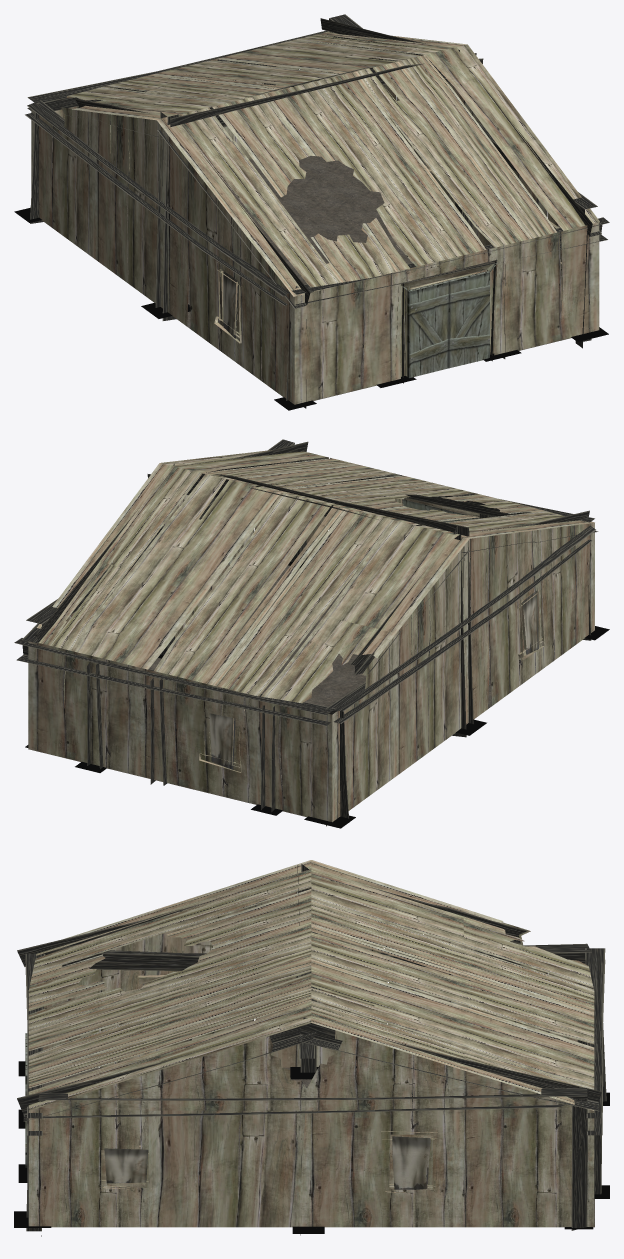
The model's file is pir_m_int_shn_npc_destroyed.fbx.
The picture shows the model from 3 angles, top to bottom: view 1: azimuth 30°, elevation 25°; view 2: azimuth 150°, elevation 25°; view 3: azimuth 270°, elevation 25°; orthographic projection. The views are drawn at different scales.
Visible parts, largest first — view 1: npc_house_roofA, npc_house_wall1, npc_house_wall4, npc_house_roofB, new_floor2, beam6, door1, door2, beam7, beam2, beam12, beam1 (+10 smaller); view 2: npc_house_roofB, npc_house_wall1, npc_house_wall3, npc_house_roofA, beam6, beam2, new_floor2, beam7, beam12, beam1, window2.002, beam15 (+9 smaller); view 3: npc_house_wall2, npc_house_roofB, npc_house_roofA, npc_house_wall1, beam5, beam6, beam8, beam2, beam20, window2, beam9, window2.003 (+4 smaller).
Boxes of the visible parts, <box> form: npc_house_roofA: <box>157,44,599,296</box>; npc_house_wall1: <box>31,107,294,404</box>; npc_house_wall4: <box>294,222,599,404</box>; npc_house_roofB: <box>67,31,466,120</box>; new_floor2: <box>126,155,570,400</box>; beam6: <box>25,100,298,305</box>; door1: <box>407,281,449,378</box>; door2: <box>448,271,489,368</box>; beam7: <box>163,53,483,139</box>; beam2: <box>27,30,329,110</box>; beam12: <box>155,112,178,320</box>; beam1: <box>291,217,609,305</box>; npc_house_roofB: <box>36,463,469,703</box>; npc_house_wall1: <box>332,523,594,821</box>; npc_house_wall3: <box>28,641,332,821</box>; npc_house_roofA: <box>160,450,594,538</box>; beam6: <box>325,519,595,723</box>; beam2: <box>14,638,335,726</box>; new_floor2: <box>28,565,562,816</box>; beam7: <box>147,473,469,558</box>; beam12: <box>452,526,473,737</box>; beam1: <box>291,458,594,524</box>; window2.002: <box>209,713,235,769</box>; beam15: <box>150,678,167,785</box>; npc_house_wall2: <box>28,1030,594,1227</box>; npc_house_roofB: <box>311,860,594,1110</box>; npc_house_roofA: <box>28,860,311,1110</box>; npc_house_wall1: <box>43,863,577,1067</box>; beam5: <box>38,1087,587,1118</box>; beam6: <box>62,943,591,970</box>; beam8: <box>299,1017,601,1111</box>; beam2: <box>585,948,605,1135</box>; beam20: <box>571,1098,587,1230</box>; window2: <box>392,1136,430,1189</box>; beam9: <box>17,1026,316,1121</box>; window2.003: <box>104,1148,148,1183</box>.
Size of the model in its own units: 4370 by 2624 by 6304.
Materials: 5 (5 with a texture image).
